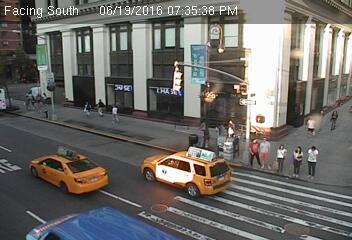neg: (290, 40, 312, 69), (255, 43, 275, 71), (44, 33, 61, 56), (70, 183, 87, 206), (209, 161, 226, 183), (178, 149, 194, 171), (34, 176, 50, 198), (136, 184, 152, 205), (172, 191, 188, 212), (21, 49, 36, 69), (153, 95, 168, 115), (131, 51, 145, 71), (204, 206, 218, 226), (78, 44, 92, 63), (16, 123, 30, 142), (141, 138, 155, 157), (227, 5, 241, 23), (58, 138, 71, 155), (170, 11, 183, 28), (130, 12, 143, 29), (107, 7, 120, 24), (63, 4, 76, 21), (29, 5, 42, 22), (169, 61, 182, 77), (187, 46, 199, 62), (7, 85, 19, 101), (240, 187, 252, 203), (100, 209, 112, 224), (97, 142, 108, 157), (284, 195, 295, 209), (314, 186, 325, 200), (327, 49, 337, 63), (121, 68, 131, 80), (139, 79, 148, 92), (251, 208, 260, 221), (304, 26, 313, 38), (61, 80, 69, 91), (302, 90, 309, 98), (137, 112, 142, 119)
pos: (301, 143, 327, 178), (283, 143, 309, 178), (255, 134, 281, 168), (236, 133, 261, 166), (270, 142, 292, 172), (327, 107, 344, 130), (92, 95, 109, 117), (305, 114, 321, 135), (107, 103, 123, 124), (81, 99, 94, 116)
